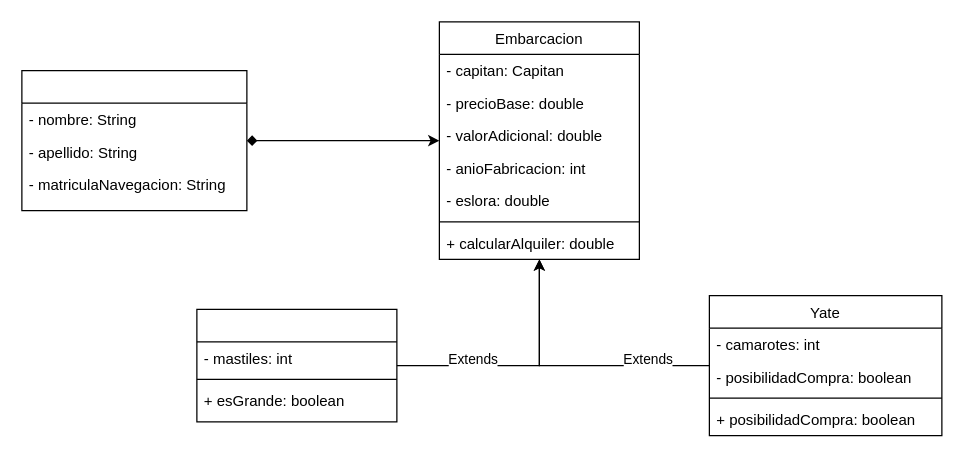
This 964x461 diagram has some shape labels left out. The shapes that lost their labels are listed below. From the top down, each one's box as (x1, y1, x2, y2) in pixels, then its label:
(21, 69, 247, 211): Capitan
(196, 308, 397, 422): Velero
